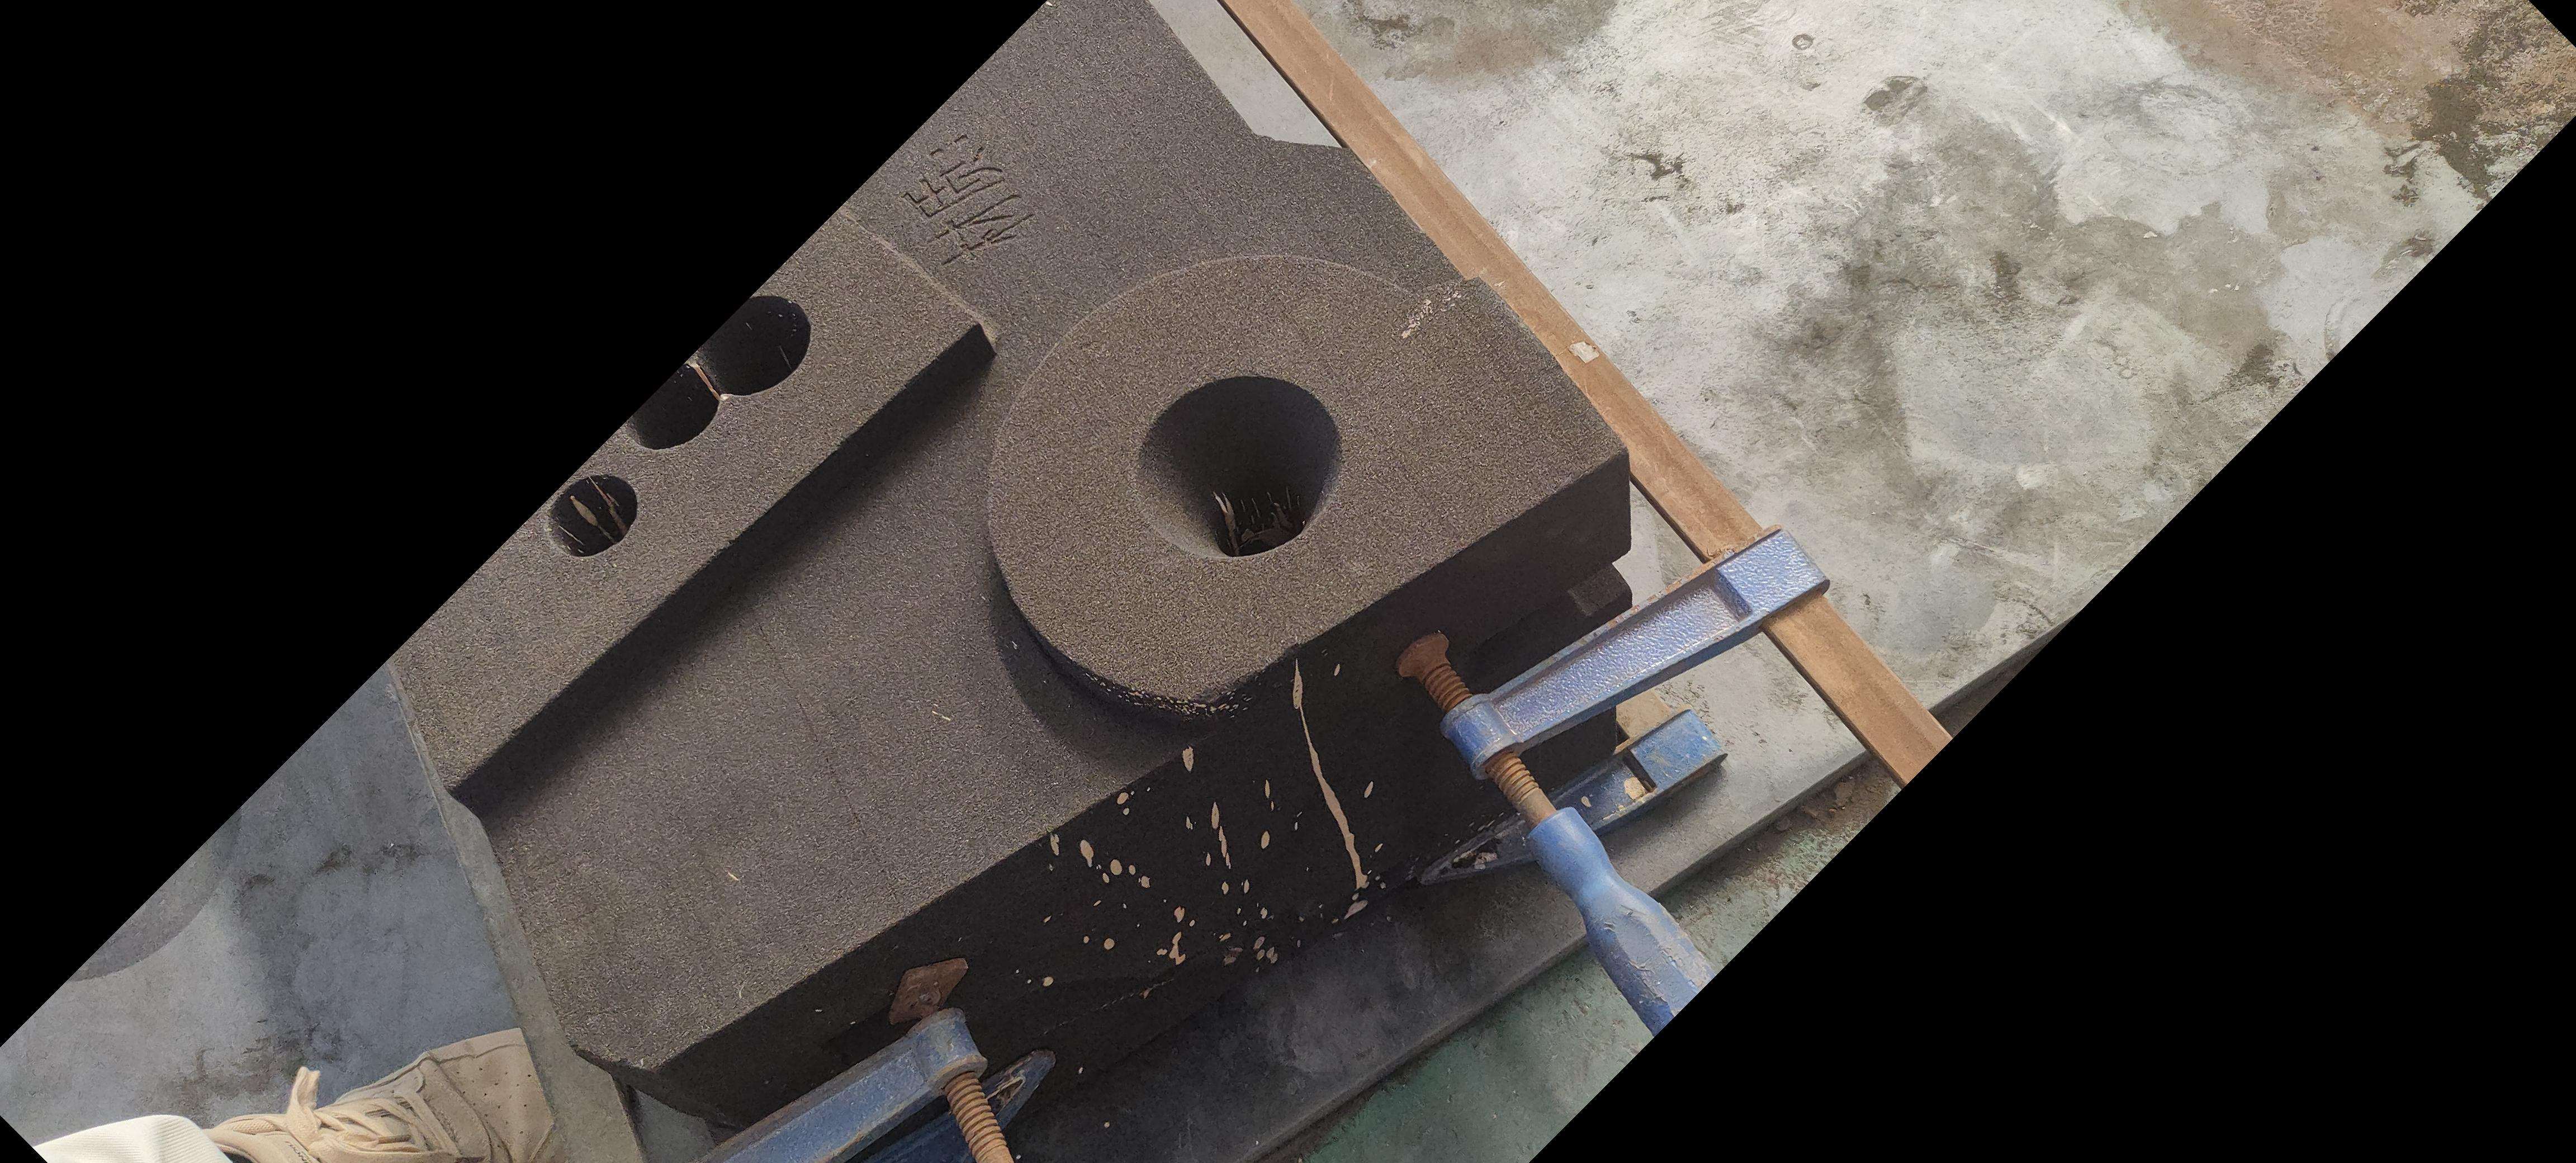pouring hole: (1130, 373, 1342, 562)
